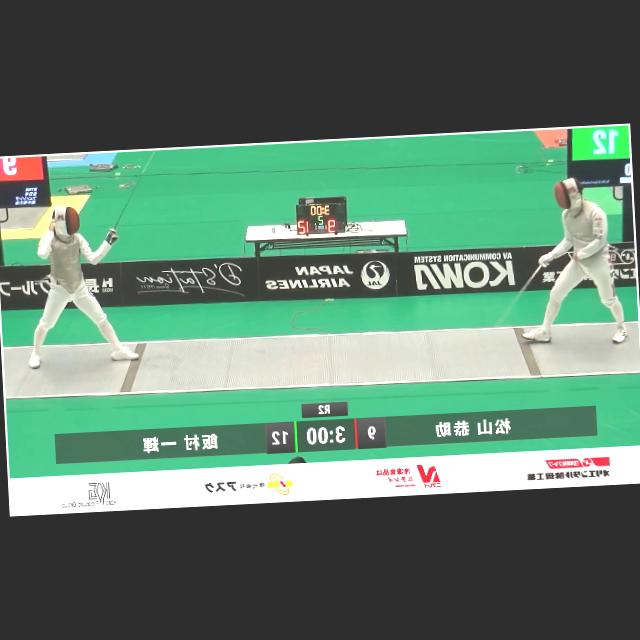blade: (98, 151, 166, 242), (482, 252, 556, 331)
